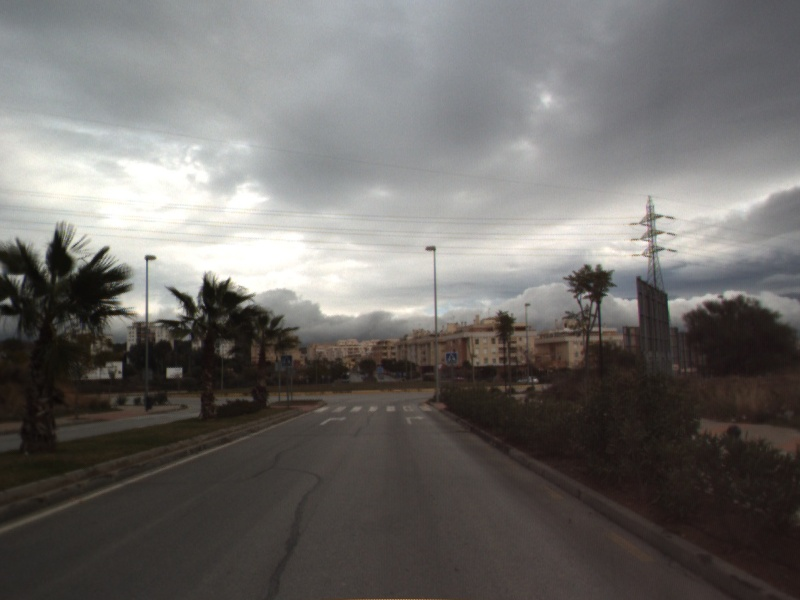RIGHT: (318, 414, 349, 427), (403, 413, 426, 426)
